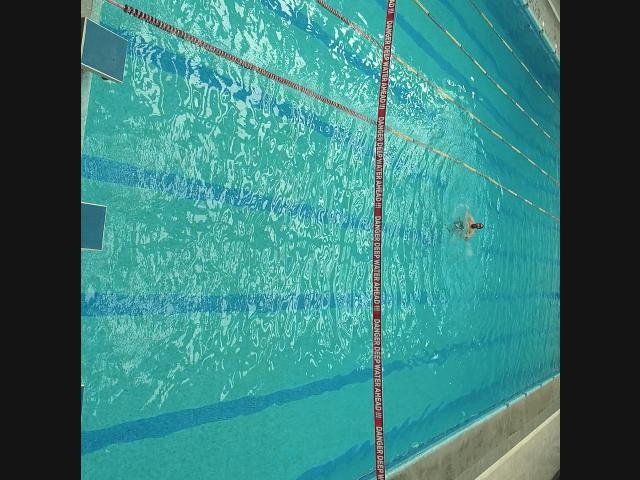swimming: (450, 213, 483, 241)
